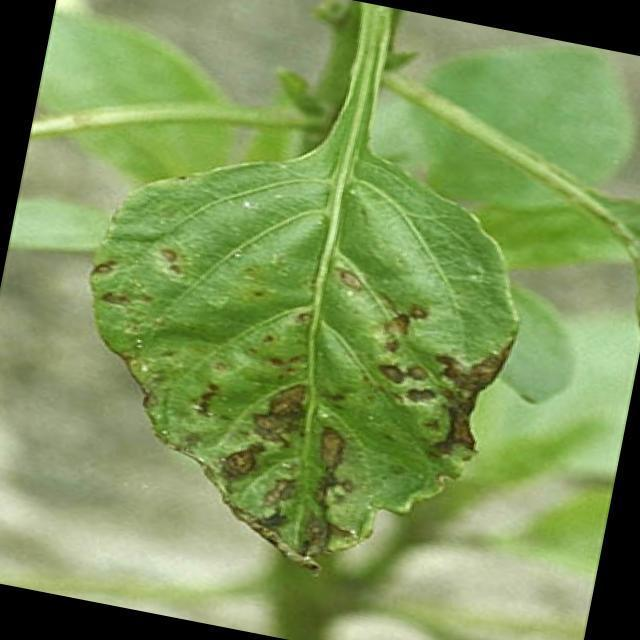Bacterial Spot: (54, 199, 494, 564)
